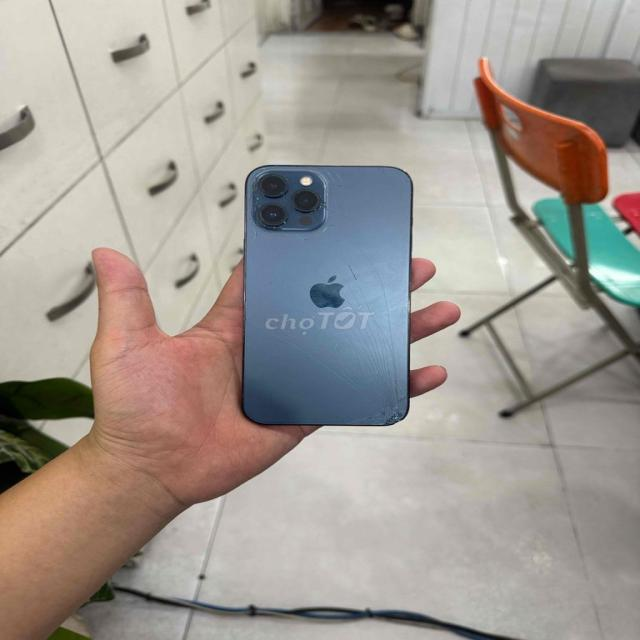gen_12_13: (237, 156, 420, 446)
physical_damage: (245, 246, 416, 444), (248, 163, 348, 246)
